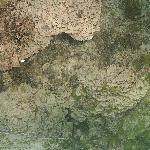dead: (11, 4, 142, 144)
